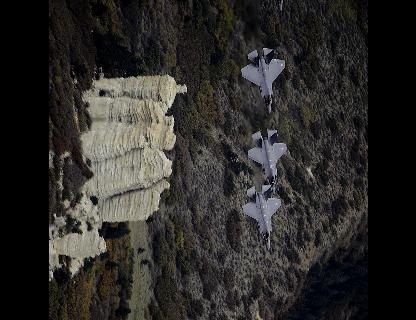F22: (240, 48, 284, 113), (246, 128, 286, 194), (242, 183, 280, 248), (254, 0, 296, 13)
